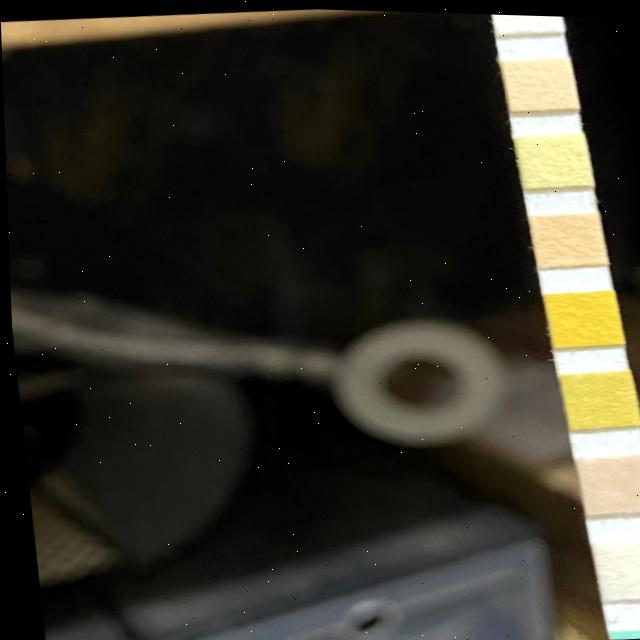Bilirubin: (590, 537, 640, 596)
Blood: (544, 286, 617, 343)
Glucose: (609, 623, 640, 637)
Ketone: (577, 453, 640, 508)
Nitrite: (496, 12, 557, 30)
Protein: (517, 132, 588, 185)
SpGravity: (559, 368, 632, 423)
Urobilinogen: (505, 57, 573, 107)
pH: (534, 210, 602, 263)
